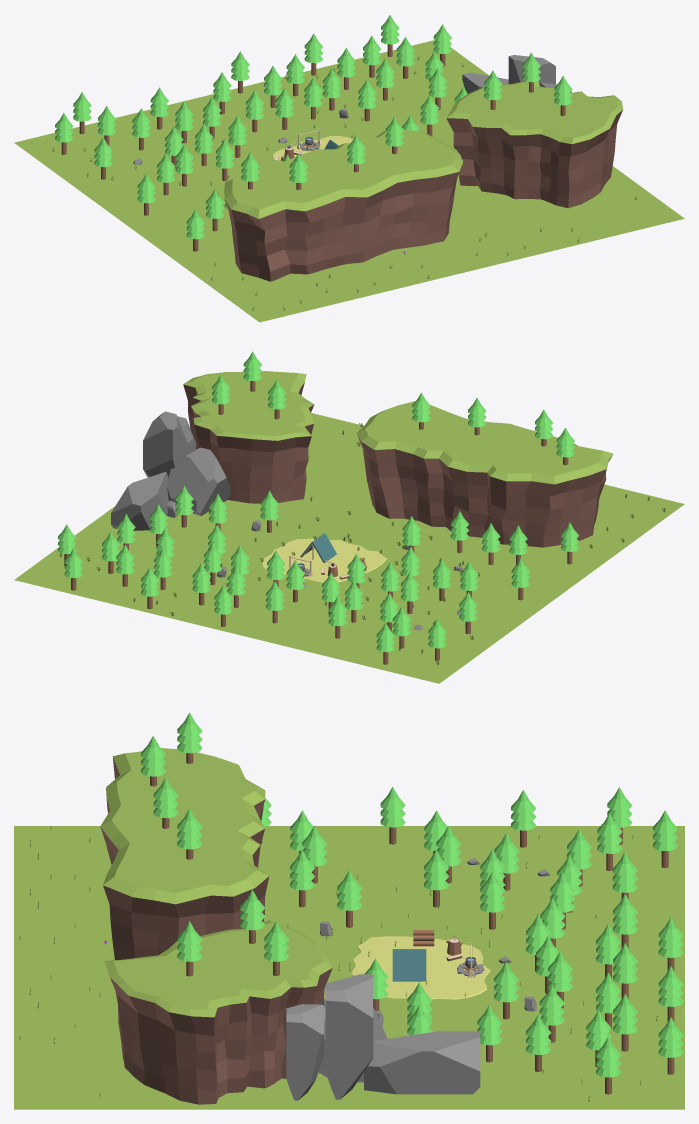
File: survivalGame.glb
3 renders of one model, top to bottom at view 1: azimuth 30°, elevation 25°; view 2: azimuth 150°, elevation 25°; view 3: azimuth 270°, elevation 25°, orthographic. The views are drawn at different scales.
Visible parts, largest first — view 1: Plane, Plane.002, Plane.004, Plane.003, Plane.006, Cube, Plane.007, Cylinder.037, Cylinder.044, Cylinder.057, Cylinder.058, Cylinder.028 (+19 smaller); view 2: Plane, Plane.002, Plane.004, Plane.006, Plane.003, Cube.002, Plane.007, Cube, Cube.003; view 3: Plane, Plane.004, Plane.003, Plane.006, Plane.002, Cube.003, Cube, Plane.007, Cube.001, Plane.106, Cylinder.056, Cylinder.042 (+39 smaller).
Boxes of the visible parts, x1,y1,x2,y2 form: Plane: [14, 40, 684, 322]; Plane.002: [225, 171, 459, 281]; Plane.004: [224, 129, 462, 218]; Plane.003: [446, 110, 622, 208]; Plane.006: [446, 81, 623, 144]; Cube: [508, 55, 555, 84]; Plane.007: [272, 135, 353, 160]; Cylinder.037: [228, 115, 246, 157]; Cylinder.044: [275, 88, 293, 129]; Cylinder.057: [396, 37, 414, 78]; Cylinder.058: [286, 54, 304, 96]; Cylinder.028: [358, 79, 376, 121]; Plane: [14, 413, 684, 683]; Plane.002: [357, 434, 612, 547]; Plane.004: [357, 401, 613, 484]; Plane.006: [183, 371, 313, 440]; Plane.003: [183, 382, 314, 503]; Cube.002: [167, 447, 230, 515]; Plane.007: [261, 538, 387, 582]; Cube: [143, 411, 190, 477]; Cube.003: [111, 472, 168, 530]; Plane: [14, 826, 684, 1109]; Plane.004: [100, 748, 268, 904]; Plane.003: [110, 968, 332, 1104]; Plane.006: [104, 920, 332, 1017]; Plane.002: [100, 756, 269, 960]; Cube.003: [364, 1031, 480, 1094]; Cube: [325, 974, 373, 1099]; Plane.007: [350, 936, 490, 999]; Cube.001: [286, 1004, 323, 1100]; Plane.106: [392, 949, 426, 981]; Cylinder.056: [658, 1017, 683, 1074]; Cylinder.042: [380, 787, 405, 844].
Size of the model in its own units: 40.28 by 10.38 by 40.
